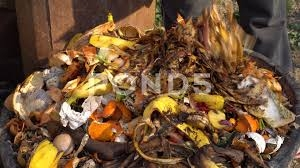kitchen_waste: (50, 3, 169, 76), (196, 1, 246, 83), (3, 66, 62, 131), (134, 87, 184, 128), (86, 31, 147, 61), (191, 91, 232, 129), (232, 110, 265, 144), (24, 136, 59, 168), (86, 117, 125, 145), (100, 95, 131, 122), (51, 129, 77, 156)
paper: (56, 93, 102, 130)
